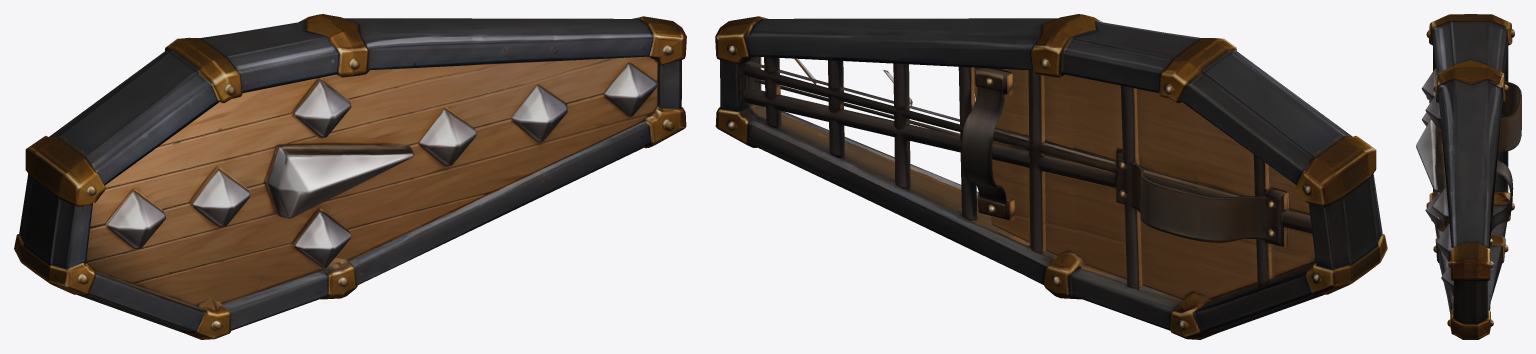
File: PB_coffin_shield_vA.glb
3 renders of one model, left to right at view 1: azimuth 30°, elevation 25°; view 2: azimuth 150°, elevation 25°; view 3: azimuth 270°, elevation 25°, orthographic. The views are drawn at different scales.
Parts seen in each view (by area): view 1: tripo_29d6c457_81f0_44ed_880f_e4ce96e33a16; view 2: tripo_29d6c457_81f0_44ed_880f_e4ce96e33a16; view 3: tripo_29d6c457_81f0_44ed_880f_e4ce96e33a16.
Part boxes in pixels (x1,y1,x2,y2): tripo_29d6c457_81f0_44ed_880f_e4ce96e33a16: (14, 14, 686, 339); tripo_29d6c457_81f0_44ed_880f_e4ce96e33a16: (715, 14, 1387, 339); tripo_29d6c457_81f0_44ed_880f_e4ce96e33a16: (1416, 14, 1521, 339).
Bounding box in the file's own units: 0.9995 × 0.4106 × 0.1851.
Materials: 1 (1 with a texture image).
